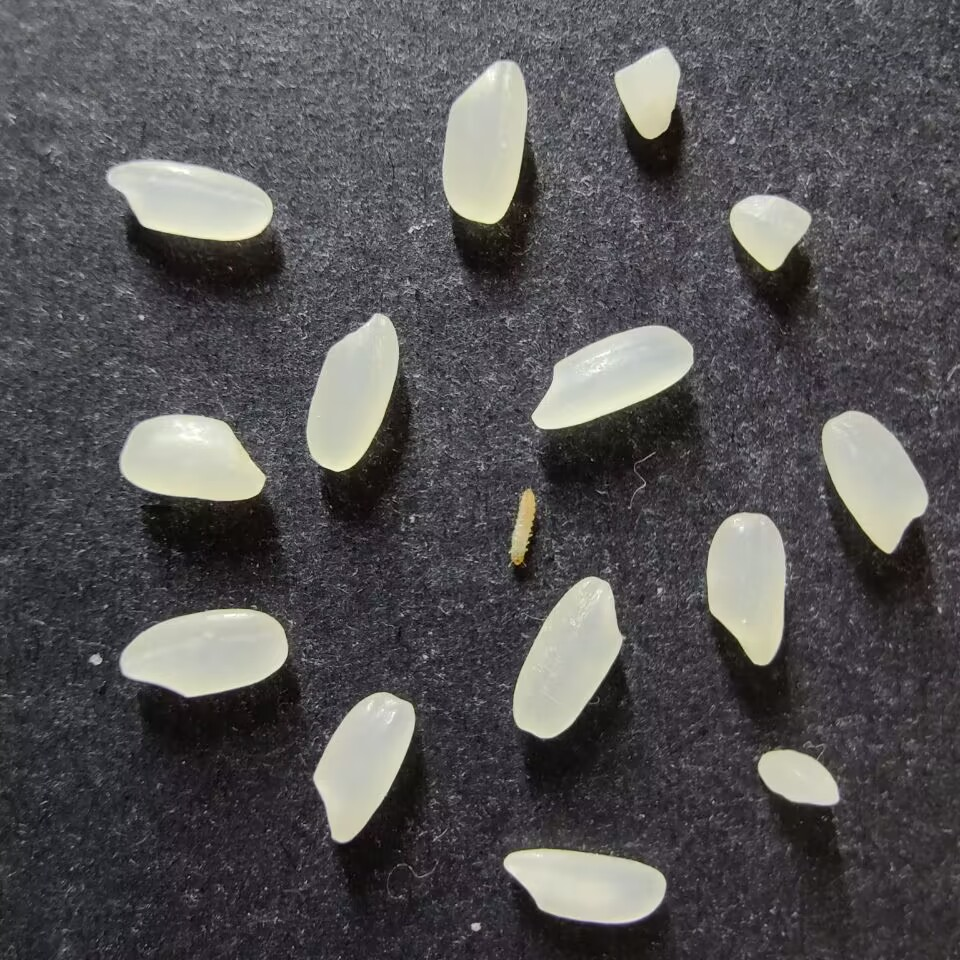broken: (729, 193, 813, 271), (614, 46, 682, 139), (757, 748, 842, 806)
others: (507, 487, 537, 569)
rice: (512, 575, 623, 740), (532, 323, 694, 430), (313, 690, 417, 844), (821, 409, 929, 554), (119, 607, 289, 698), (305, 312, 400, 472), (442, 59, 528, 225), (107, 159, 274, 241), (119, 413, 267, 500), (503, 847, 668, 925), (705, 511, 787, 665)
